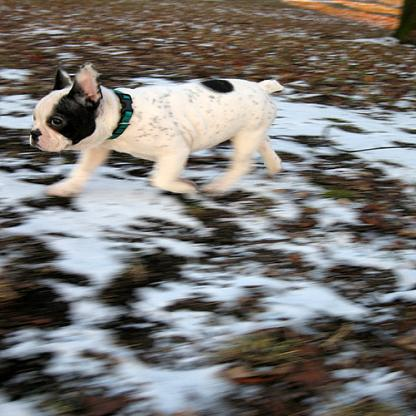French_bulldog: (25, 62, 288, 199)
